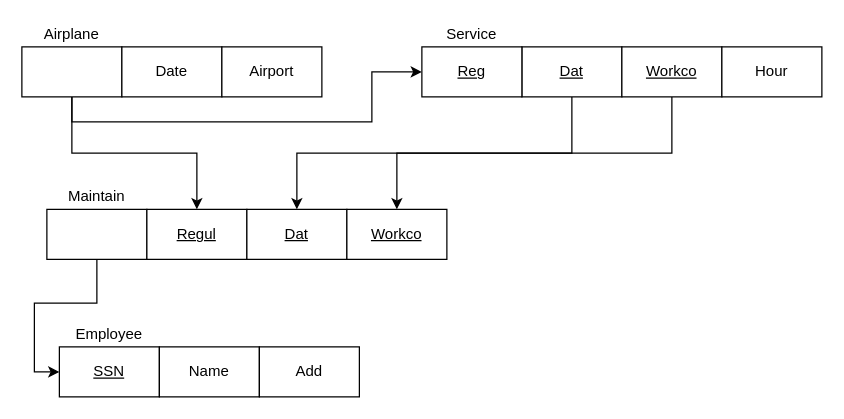
This 844x419 diagram has some shape labels left out. The centre of each missing label's shape, as x and y in pixels:
Regulation: (x=71, y=71)
Social Sec Num: (x=96, y=233)
